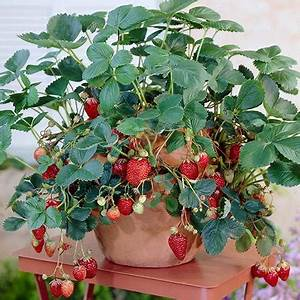Fresa: (123, 153, 152, 189), (166, 230, 190, 266), (76, 253, 99, 282), (81, 94, 104, 123), (177, 157, 202, 182), (274, 259, 292, 284), (247, 259, 267, 281), (28, 235, 47, 257), (193, 149, 210, 173), (48, 277, 66, 299), (30, 221, 48, 243), (117, 196, 135, 217), (262, 267, 279, 289)
